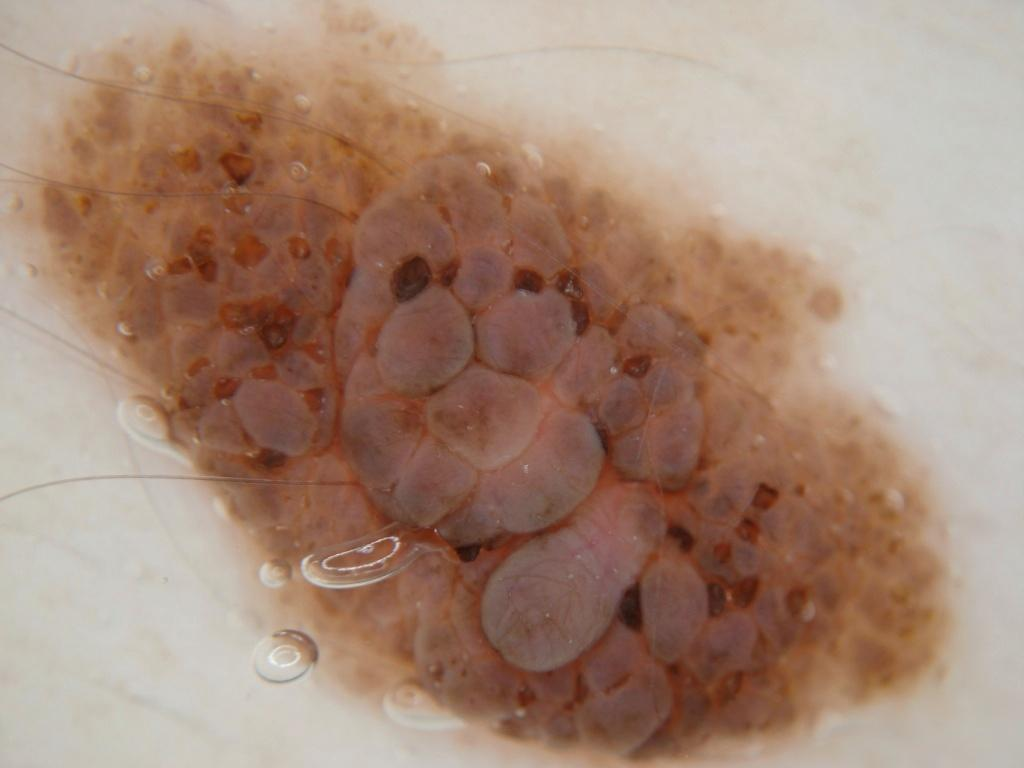Detected Lesion: (6, 1, 967, 765)
